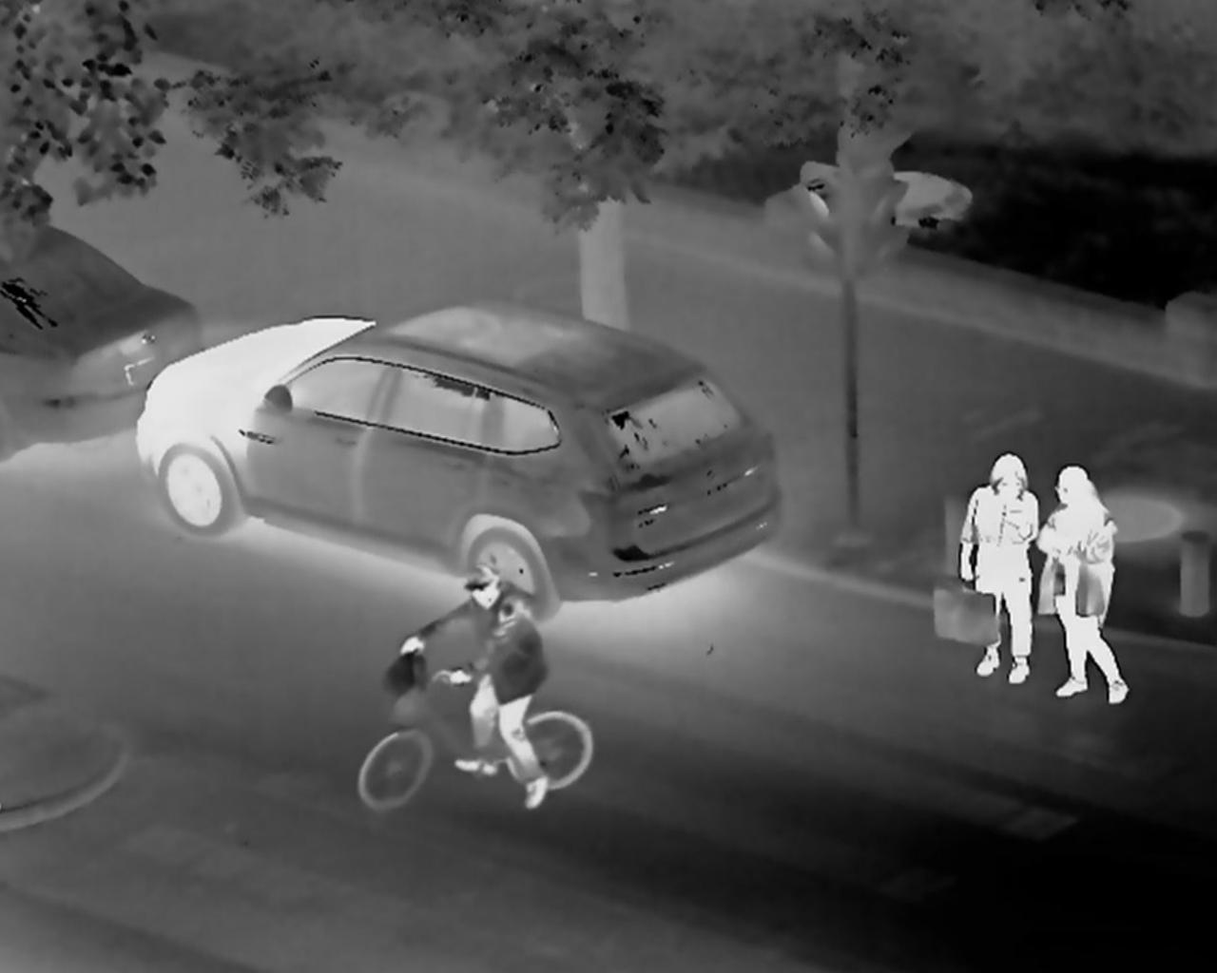person: (381, 551, 572, 822), (1040, 441, 1124, 716), (947, 425, 1026, 663)
